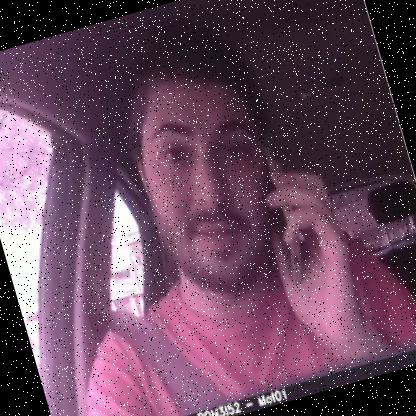phone: (241, 132, 335, 294)
